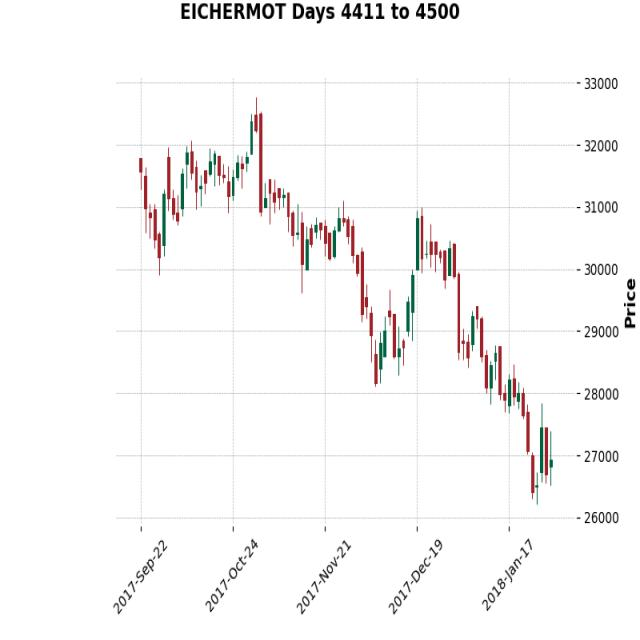Head and Shoulder: (152, 94, 367, 282)
